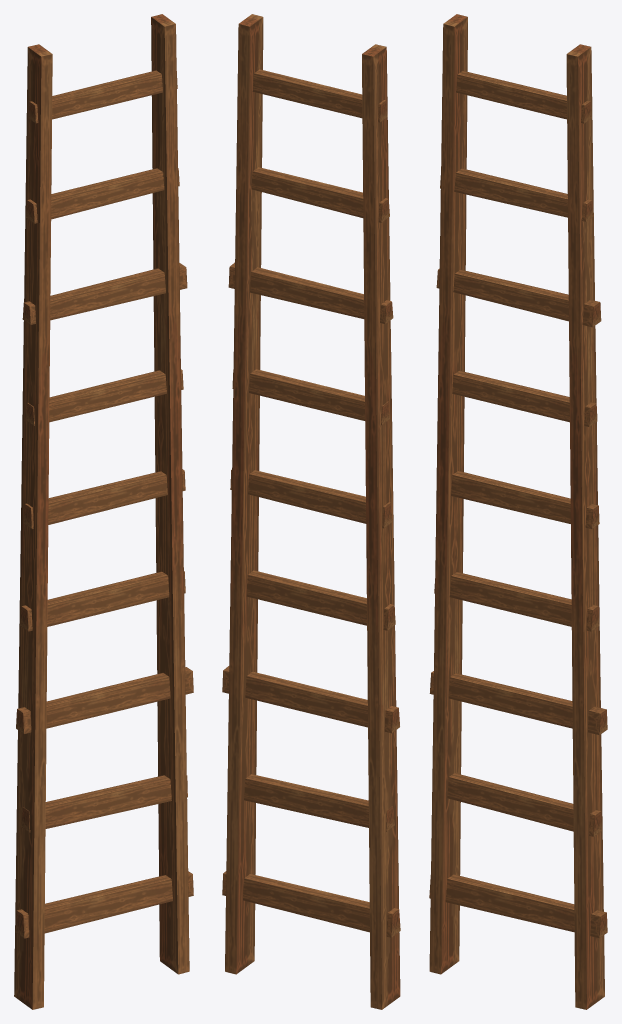
The model's file is Ladder.fbx.
3 views of the same model, side by side, from view 1: azimuth 30°, elevation 25°; view 2: azimuth 150°, elevation 25°; view 3: azimuth 330°, elevation 25° (orthographic).
Visible parts, largest first — view 1: Ladder; view 2: Ladder; view 3: Ladder.
Part boxes in pixels (box(x1,y1,x2,y2)): Ladder: box(14, 14, 193, 1009); Ladder: box(222, 14, 400, 1009); Ladder: box(429, 14, 607, 1009).
Bounding box in the file's own units: 54.72 × 292 × 10.28.
